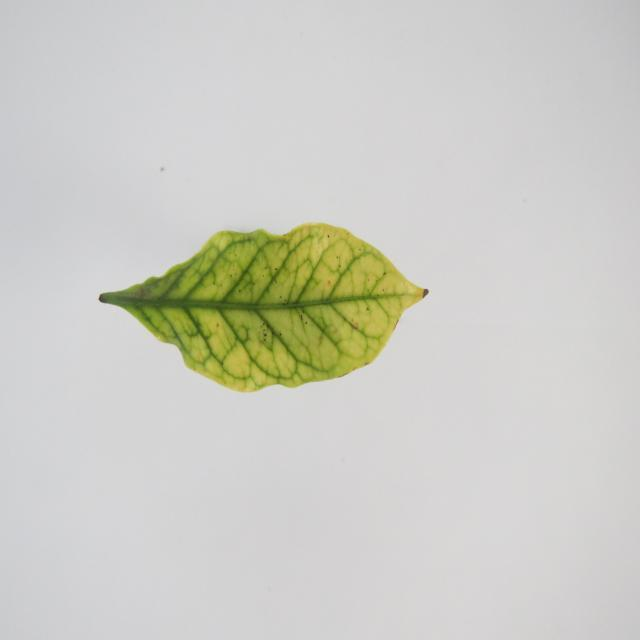DeficienciaNutricional-Hierro: (100, 225, 423, 391)
